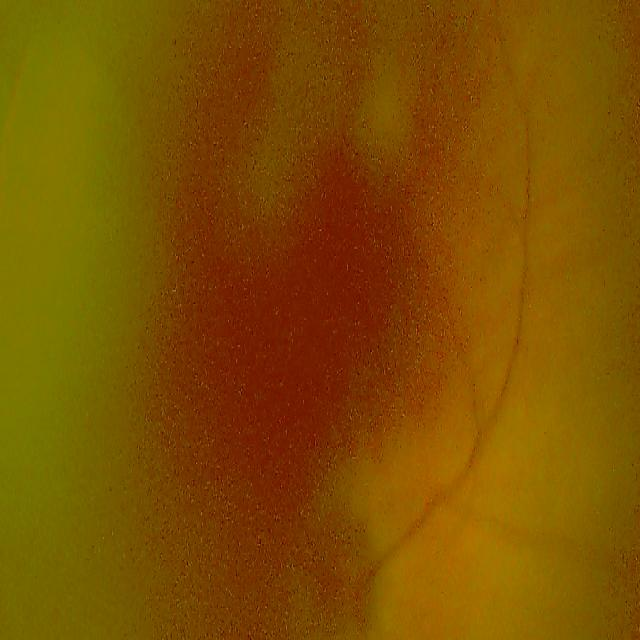optic-nerve: (285, 489, 392, 640)
